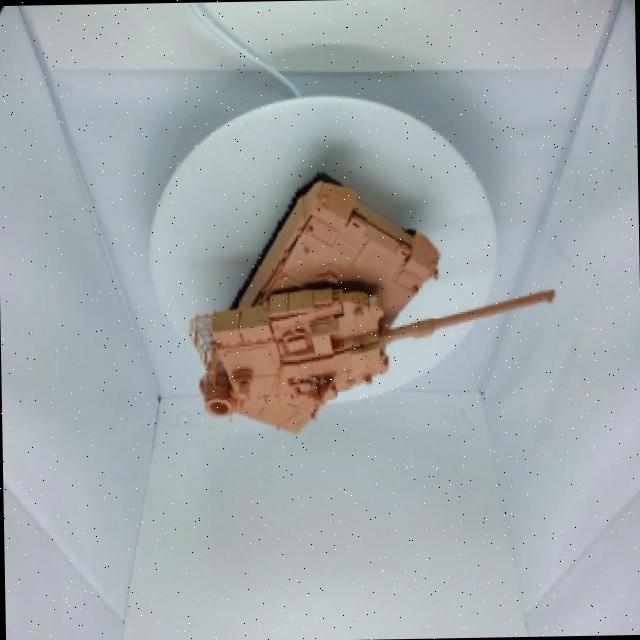korea tank: (171, 145, 568, 464)
